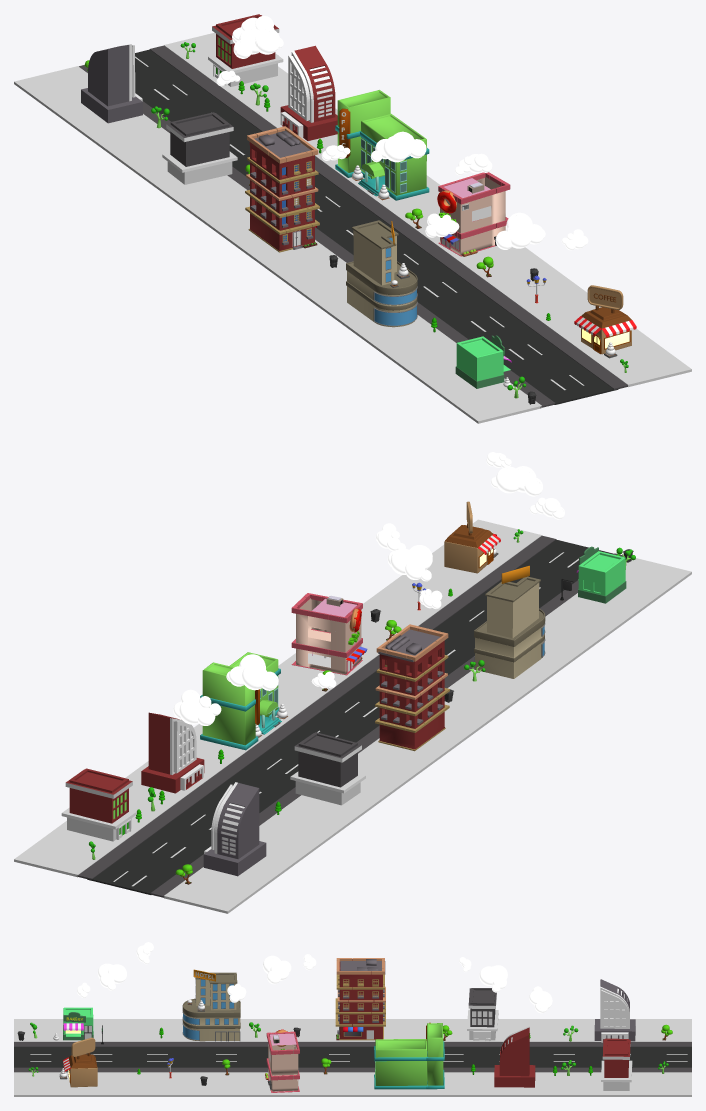
Rendered from cityy-final.glb.
The picture shows the model from 3 angles, top to bottom: view 1: azimuth 30°, elevation 25°; view 2: azimuth 150°, elevation 25°; view 3: azimuth 270°, elevation 25°; orthographic projection. The views are drawn at different scales.
Parts seen in each view (by area): view 1: Cube.042, Cube.065, Cube.057, Cube.063, Home, building-box, Home.001, Home-right-top.002, Cube.080, Building-right, Cube.081, Cube.086 (+15 smaller); view 2: Cube.042, Cube.065, Cube.057, Cube.063, building-box, Home.001, Home, Cube.080, Building-left, Home-right-top.001, Home-right-top.002, Cube.081 (+12 smaller); view 3: Cube.057, Cube.065, Cube.042, Cube.063, Cube.064, Building-right, building-box, Home, Home.001, Cube.080, Cube.086, Home-right-top.001 (+21 smaller).
Boxes of the visible parts, left/top/right/bottom form: Cube.042: left=14, top=66, right=541, bottom=423; Cube.065: left=135, top=49, right=618, bottom=404; Cube.057: left=164, top=32, right=691, bottom=387; Cube.063: left=149, top=45, right=627, bottom=389; Home: left=280, top=45, right=337, bottom=140; building-box: left=249, top=142, right=314, bottom=250; Home.001: left=81, top=44, right=142, bottom=123; Home-right-top.002: left=166, top=112, right=233, bottom=166; Cube.080: left=346, top=261, right=417, bottom=327; Building-right: left=361, top=113, right=426, bottom=195; Cube.081: left=352, top=220, right=398, bottom=285; Cube.086: left=440, top=176, right=505, bottom=255; Cube.042: left=164, top=558, right=691, bottom=913; Cube.065: left=87, top=539, right=613, bottom=894; Cube.057: left=14, top=519, right=541, bottom=877; Cube.063: left=77, top=535, right=556, bottom=879; building-box: left=379, top=629, right=444, bottom=749; Home.001: left=203, top=782, right=266, bottom=876; Home: left=141, top=712, right=204, bottom=793; Cube.080: left=474, top=608, right=545, bottom=678; Building-left: left=202, top=662, right=255, bottom=745; Home-right-top.001: left=65, top=768, right=132, bottom=823; Home-right-top.002: left=294, top=732, right=361, bottom=787; Cube.081: left=485, top=576, right=540, bottom=638; Cube.057: left=14, top=1072, right=691, bottom=1096; Cube.065: left=14, top=1047, right=691, bottom=1067; Cube.042: left=14, top=1019, right=691, bottom=1041; Cube.063: left=14, top=1067, right=691, bottom=1072; Cube.064: left=14, top=1042, right=691, bottom=1046; Building-right: left=375, top=1039, right=426, bottom=1085; building-box: left=339, top=959, right=382, bottom=1039; Home: left=494, top=1026, right=535, bottom=1087; Home.001: left=594, top=979, right=635, bottom=1042; Cube.080: left=182, top=998, right=240, bottom=1041; Cube.086: left=268, top=1037, right=298, bottom=1091; Home-right-top.001: left=602, top=1038, right=630, bottom=1077.
Bounding box in the file's own units: 3.68 × 2.22 × 13.82.
